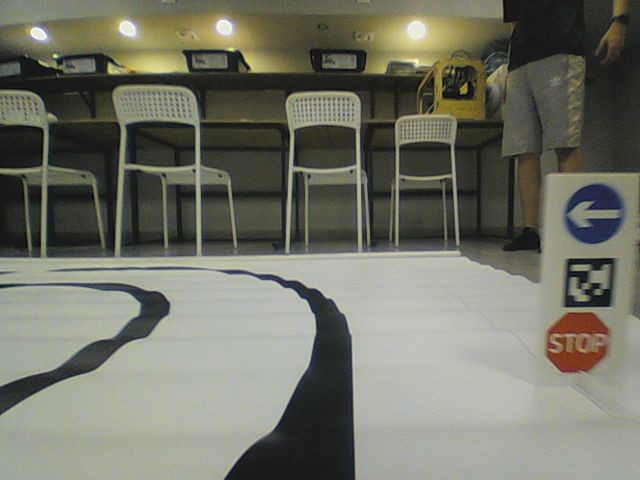Stop: (542, 310, 615, 375)
